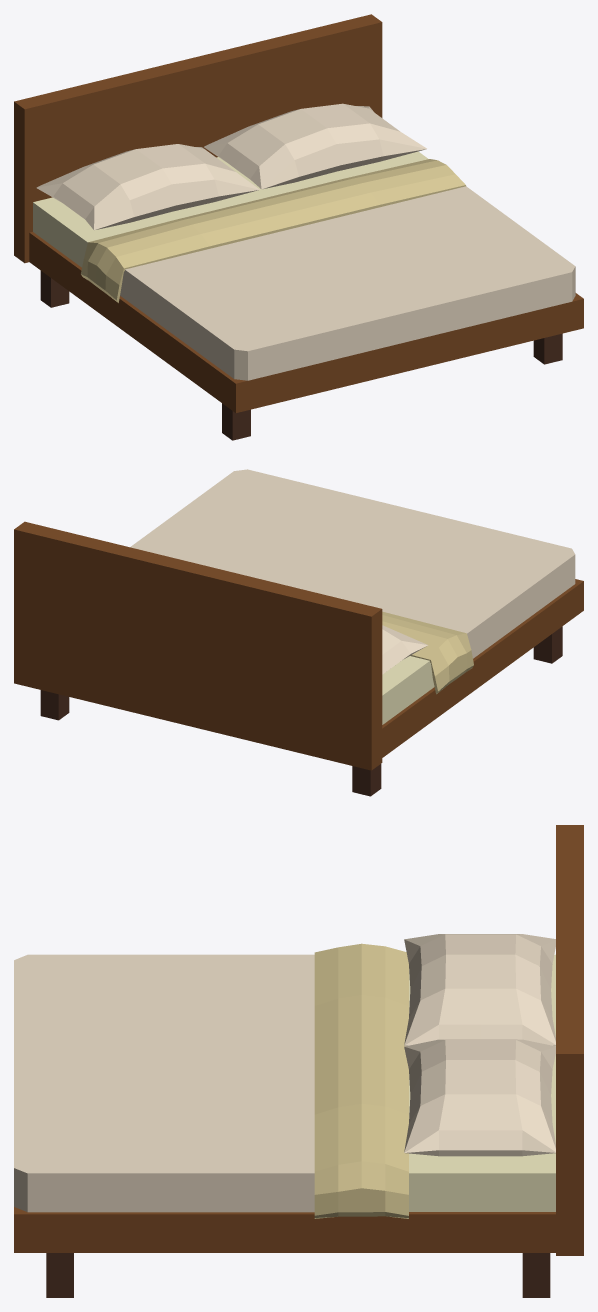
The model's file is Bed_1B.fbx.
The picture shows the model from 3 angles, top to bottom: view 1: azimuth 30°, elevation 25°; view 2: azimuth 150°, elevation 25°; view 3: azimuth 270°, elevation 25°; orthographic projection. The views are drawn at different scales.
Parts seen in each view (by area): view 1: polySurface1817; view 2: polySurface1817; view 3: polySurface1817.
Boxes of the visible parts, x1,y1,x2,y2 form: polySurface1817: (14,14,583,440); polySurface1817: (14,469,583,796); polySurface1817: (14,825,583,1297).
Bounding box in the file's own units: 3.84 × 1.96 × 4.
Materials: 1 (1 with a texture image).
